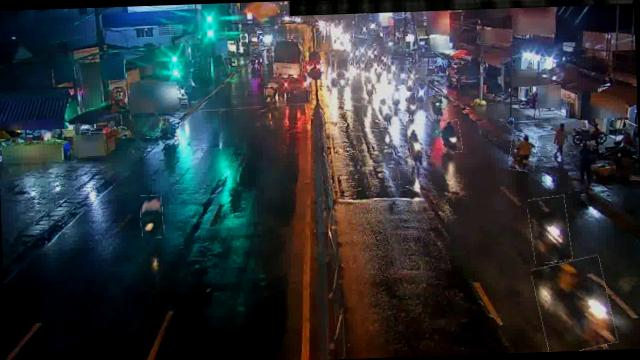Bike: (534, 258, 614, 352), (529, 196, 571, 264), (508, 132, 538, 172), (139, 194, 163, 238), (439, 120, 462, 153), (408, 128, 426, 167), (158, 118, 180, 144), (377, 96, 394, 127), (429, 93, 446, 119), (407, 92, 420, 118), (264, 86, 278, 109), (364, 76, 376, 98), (391, 88, 403, 109), (416, 82, 426, 103), (337, 70, 348, 88), (406, 76, 414, 90)
Car: (286, 79, 312, 102)
Truck: (272, 39, 304, 77)
